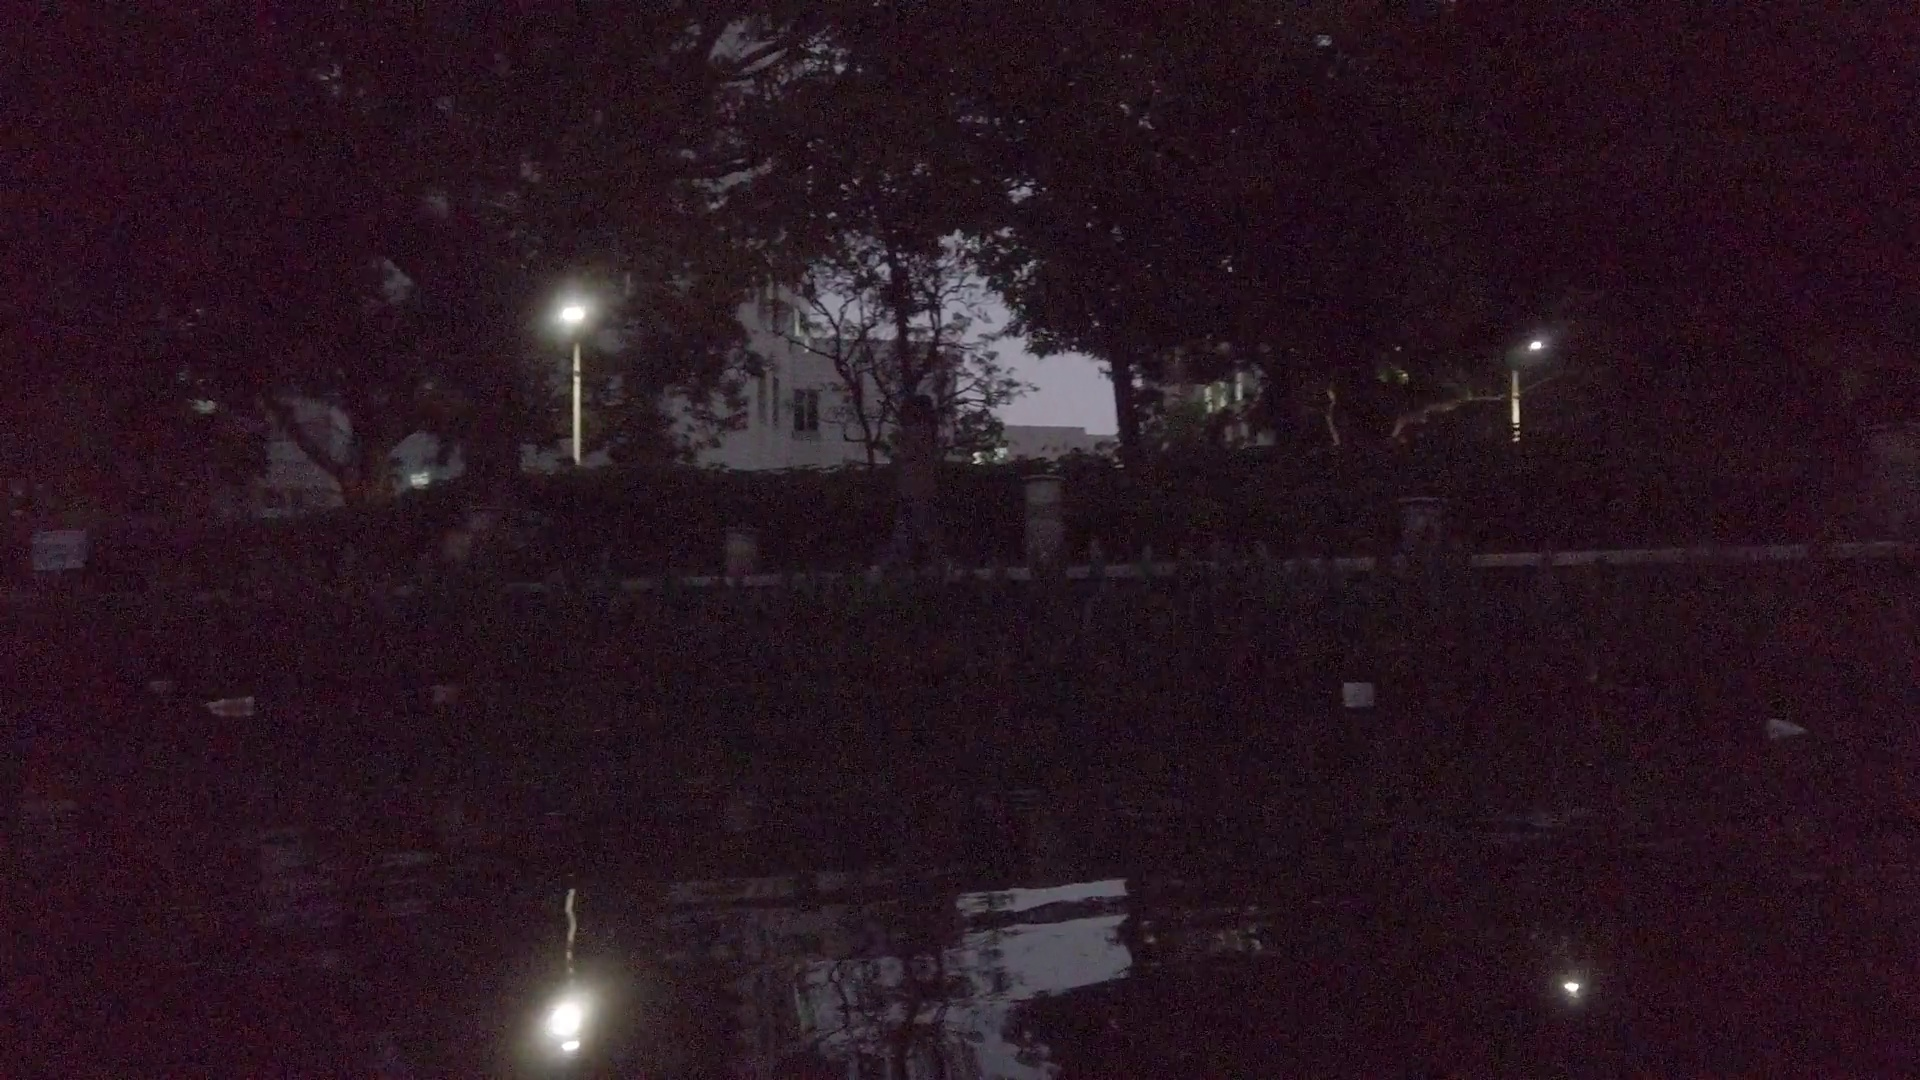bottle: (206, 698, 255, 709), (433, 684, 456, 698)
carton: (1763, 720, 1799, 738), (146, 678, 175, 698), (1344, 683, 1373, 698)
